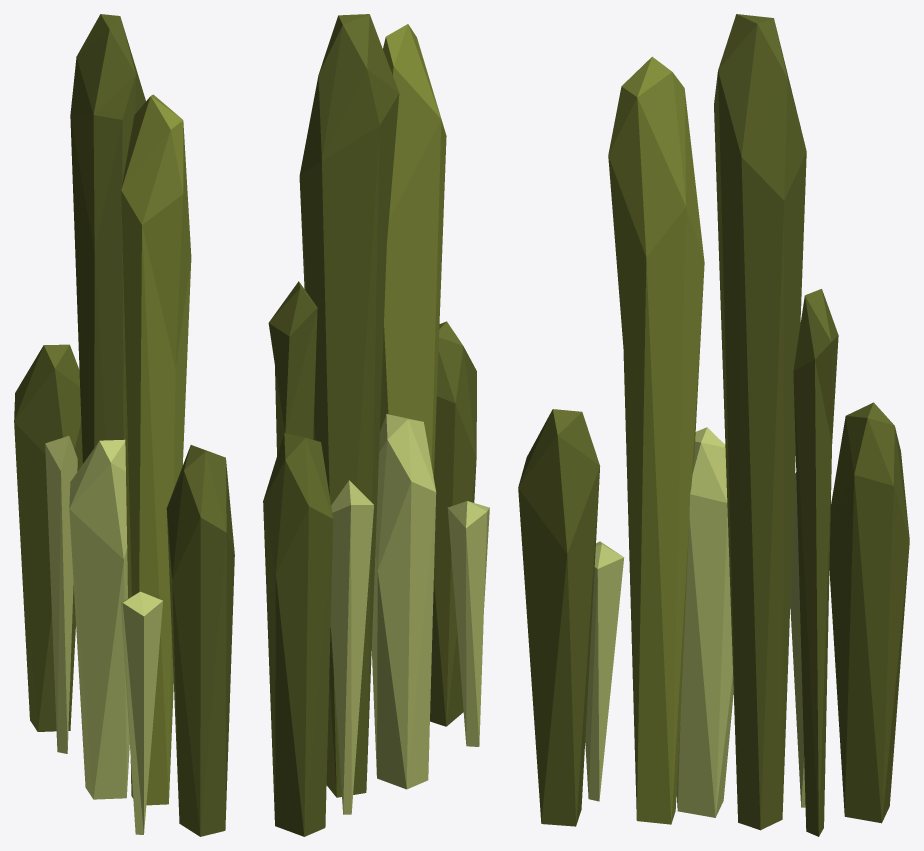
The model's file is ea_swamp_grass_01e_pre__16__lev1.glb.
3 renders of one model, left to right at view 1: azimuth 30°, elevation 25°; view 2: azimuth 150°, elevation 25°; view 3: azimuth 270°, elevation 25°, orthographic. The views are drawn at different scales.
Visible parts, largest first — view 1: ea_swamp_grass_01e_pre__16__lev1; view 2: ea_swamp_grass_01e_pre__16__lev1; view 3: ea_swamp_grass_01e_pre__16__lev1.
Boxes of the visible parts, x1,y1,x2,y2 form: ea_swamp_grass_01e_pre__16__lev1: (14, 14, 234, 836); ea_swamp_grass_01e_pre__16__lev1: (263, 14, 489, 836); ea_swamp_grass_01e_pre__16__lev1: (518, 14, 909, 836).
Size of the model in its own units: 0.4065 by 2.69 by 1.19.
1 material, 1 textured.
